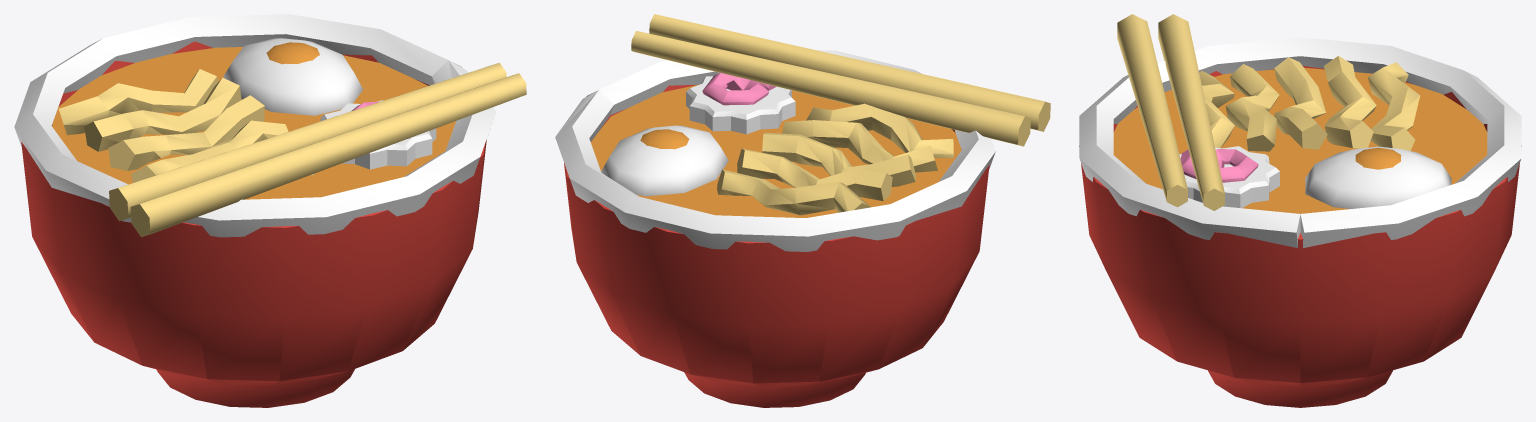
The model's file is Food_ramen.glb.
3 views of the same model, side by side, from view 1: azimuth 30°, elevation 25°; view 2: azimuth 150°, elevation 25°; view 3: azimuth 270°, elevation 25° (orthographic). The views are drawn at different scales.
Visible parts, largest first — view 1: Bowl_E0453C, White_FFFFFF, Noodle_FFE08A, Broth_E89A3C; view 2: Bowl_E0453C, Noodle_FFE08A, White_FFFFFF, Broth_E89A3C, Pink_FF8FC0; view 3: Bowl_E0453C, White_FFFFFF, Noodle_FFE08A, Broth_E89A3C, Pink_FF8FC0.
Boxes of the visible parts, box(x1,y1,x2,y2) form: Bowl_E0453C: box(21, 41, 486, 407); White_FFFFFF: box(14, 14, 496, 237); Noodle_FFE08A: box(58, 63, 526, 237); Broth_E89A3C: box(52, 42, 455, 199); Bowl_E0453C: box(564, 85, 989, 407); Noodle_FFE08A: box(631, 14, 1050, 215); White_FFFFFF: box(555, 50, 995, 251); Broth_E89A3C: box(591, 84, 961, 217); Pink_FF8FC0: box(702, 72, 776, 105); Bowl_E0453C: box(1079, 66, 1521, 407); White_FFFFFF: box(1079, 37, 1521, 247); Noodle_FFE08A: box(1117, 14, 1420, 210); Broth_E89A3C: box(1113, 67, 1487, 213); Pink_FF8FC0: box(1180, 149, 1258, 182).
Size of the model in its own units: 2.21 by 1.48 by 2.16.
